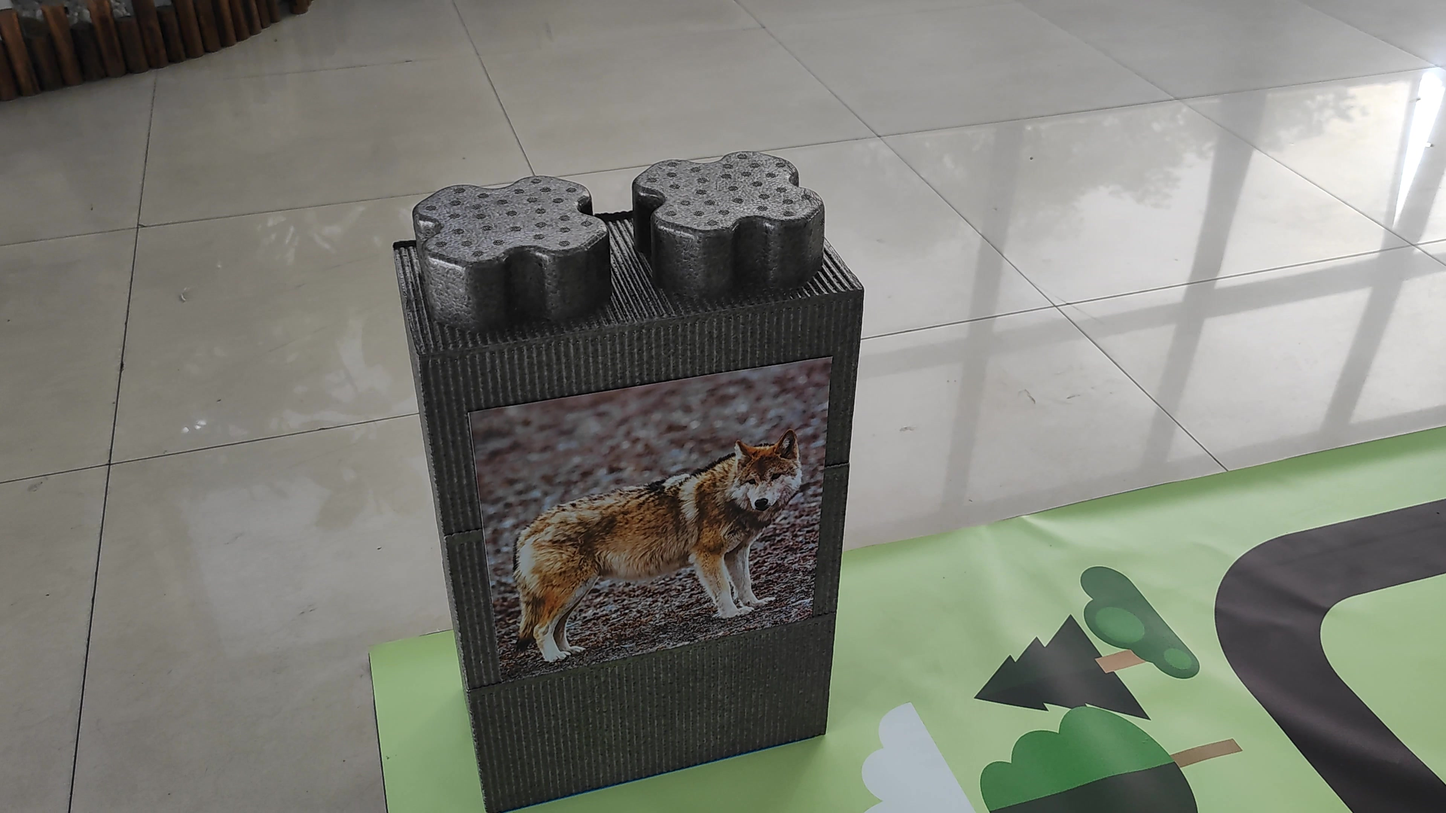wolf: (483, 422, 802, 655)
